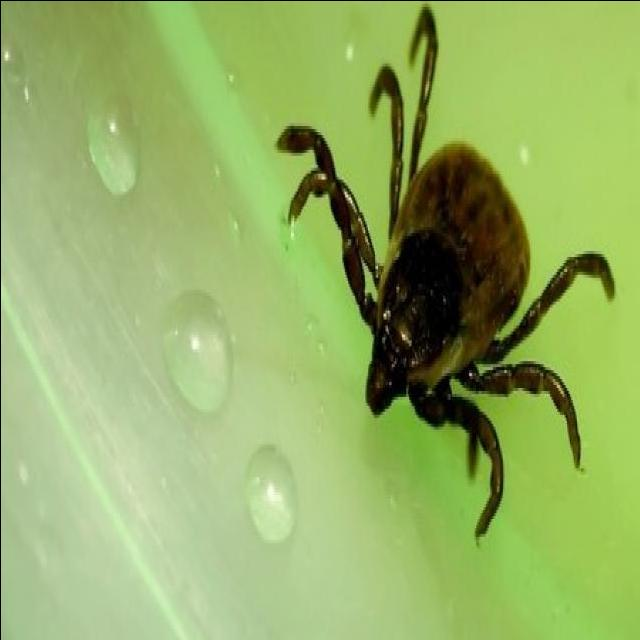Rhipicephalus Sanguineus-F: (277, 6, 616, 542)
